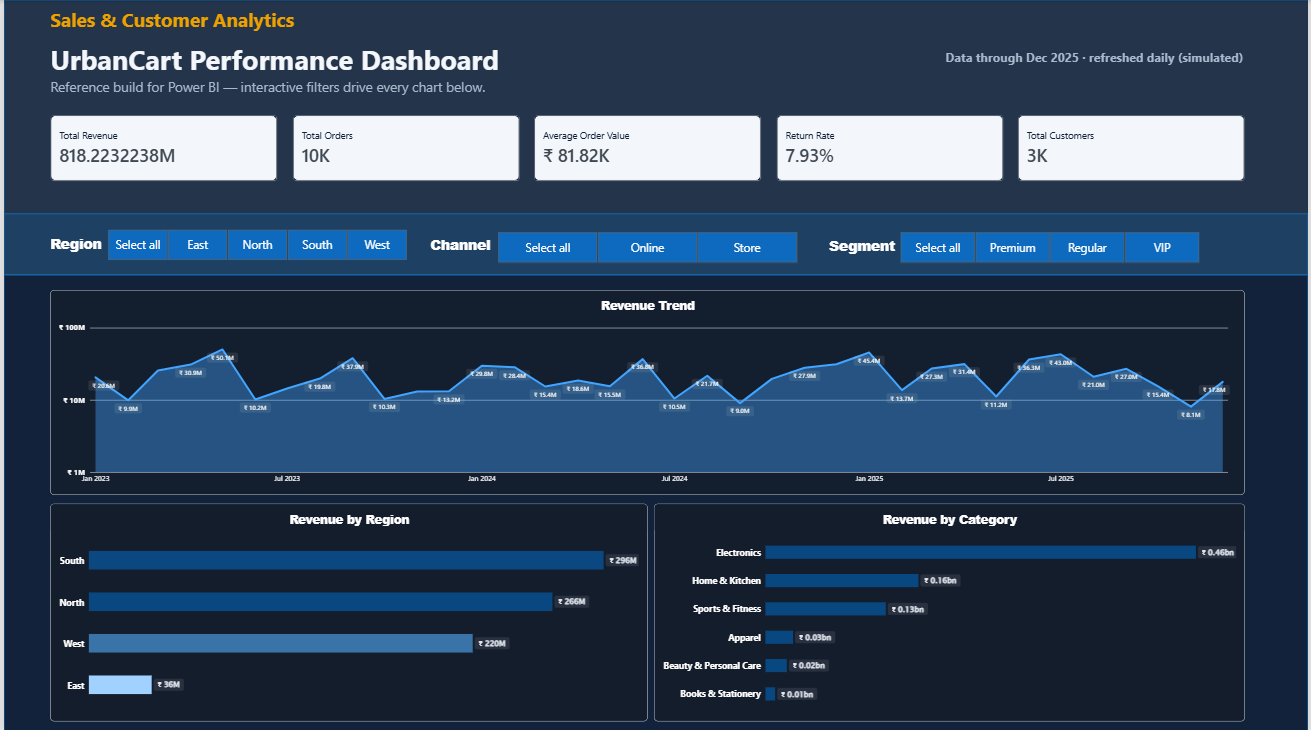

The page's visual inventory and layout, read from the dashboard file:
{"tool":"powerbi","page":{"name":"Home","canvas":[2560,1440],"ordinal":0},"visuals":[{"type":"shape","box":[0,0,3840,420],"z":0},{"type":"textbox","box":[90,13.3,933.3,216.7],"z":1000},{"type":"textbox","box":[1797.5,77.5,636.7,83.3],"z":2000},{"type":"shape","box":[0,420,2560,120],"z":3000},{"type":"cardVisual","fields":{"Data":["Order_Items.Total Revenue"]},"box":[90,225,446,130],"z":4000},{"type":"cardVisual","fields":{"Data":["Orders.Total Orders"]},"box":[567.5,225,446,130],"z":5000},{"type":"cardVisual","fields":{"Data":["Orders.Average Order Value"]},"box":[1040,225,446,130],"z":6000},{"type":"cardVisual","fields":{"Data":["Returns.Return Rate"]},"box":[1517.5,225,446,130],"z":7000},{"type":"cardVisual","fields":{"Data":["Customers.Total Customers"]},"box":[1990,225,446,130],"z":8000},{"type":"shape","box":[0,540,2560,900],"z":9000},{"type":"clusteredBarChart","title":"Revenue by Region","fields":{"Category":["Orders.Region"],"Y":["Order_Items.Total Revenue"]},"box":[90,990,1172.5,427.5],"z":10000},{"type":"clusteredBarChart","title":"Revenue by Category","fields":{"Category":["Products.Category"],"Y":["Order_Items.Total Revenue"]},"box":[1275,990,1160,427.5],"z":11000},{"type":"lineChart","title":"Revenue Trend","fields":{"Category":["Orders.OrderDate.Variation.Date Hierarchy.Year","Orders.OrderDate.Variation.Date Hierarchy.Month"],"Y":["Order_Items.Total Revenue"]},"box":[90,570,2345,402.5],"z":12000},{"type":"shape","box":[2435,420,125,120],"z":13000},{"type":"image","box":[2435,392.5,125,175],"z":14000},{"type":"slicer","fields":{"Values":["Orders.Region"]},"box":[185,450,625,62.5],"z":15000},{"type":"textbox","box":[90,460,115,52.5],"z":16000},{"type":"slicer","fields":{"Values":["Orders.Channel"]},"box":[950,455,625,62.5],"z":17000},{"type":"slicer","fields":{"Values":["Customers.CustomerSegment"]},"box":[1740,455,625,62.5],"z":18000},{"type":"textbox","box":[837.5,462.5,130,57.5],"z":19000},{"type":"textbox","box":[1620,465,140,57.5],"z":20000}]}

Visuals, with their boxes in screenshot pixels (x1, y1, x2, y2), scaled from the page's 2560x1440 canvas onto the 1311x730 screenshot:
shape: <bbox>0, 0, 1310, 213</bbox>
textbox: <bbox>46, 7, 524, 117</bbox>
textbox: <bbox>921, 39, 1247, 82</bbox>
shape: <bbox>0, 213, 1310, 274</bbox>
cardVisual - Order_Items.Total Revenue: <bbox>46, 114, 274, 180</bbox>
cardVisual - Orders.Total Orders: <bbox>291, 114, 519, 180</bbox>
cardVisual - Orders.Average Order Value: <bbox>533, 114, 761, 180</bbox>
cardVisual - Returns.Return Rate: <bbox>777, 114, 1006, 180</bbox>
cardVisual - Customers.Total Customers: <bbox>1019, 114, 1247, 180</bbox>
shape: <bbox>0, 274, 1310, 729</bbox>
"Revenue by Region" clusteredBarChart: <bbox>46, 502, 647, 719</bbox>
"Revenue by Category" clusteredBarChart: <bbox>653, 502, 1247, 719</bbox>
"Revenue Trend" lineChart: <bbox>46, 289, 1247, 493</bbox>
shape: <bbox>1247, 213, 1310, 274</bbox>
image: <bbox>1247, 199, 1310, 288</bbox>
slicer - Orders.Region: <bbox>95, 228, 415, 260</bbox>
textbox: <bbox>46, 233, 105, 260</bbox>
slicer - Orders.Channel: <bbox>487, 231, 807, 262</bbox>
slicer - Customers.CustomerSegment: <bbox>891, 231, 1211, 262</bbox>
textbox: <bbox>429, 234, 495, 264</bbox>
textbox: <bbox>830, 236, 901, 265</bbox>
